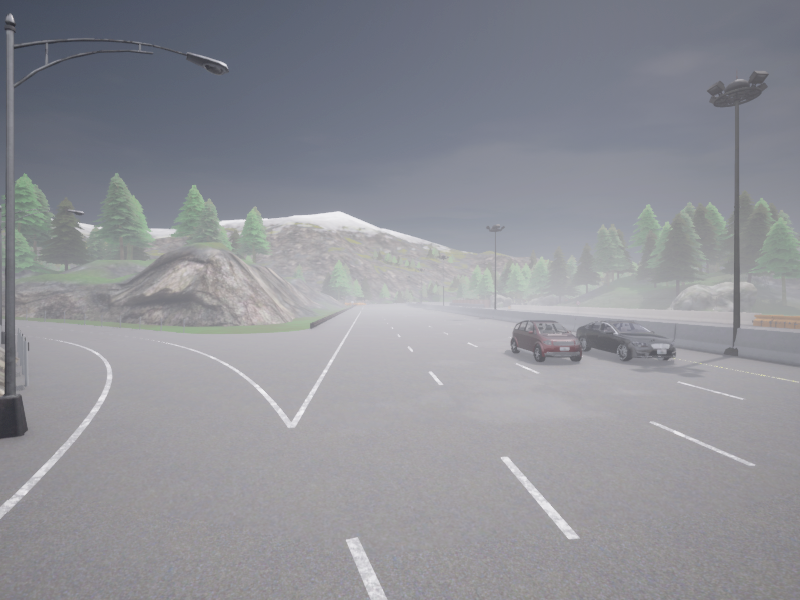vehicle: (576, 320, 675, 360), (511, 320, 581, 361), (417, 302, 420, 303)
